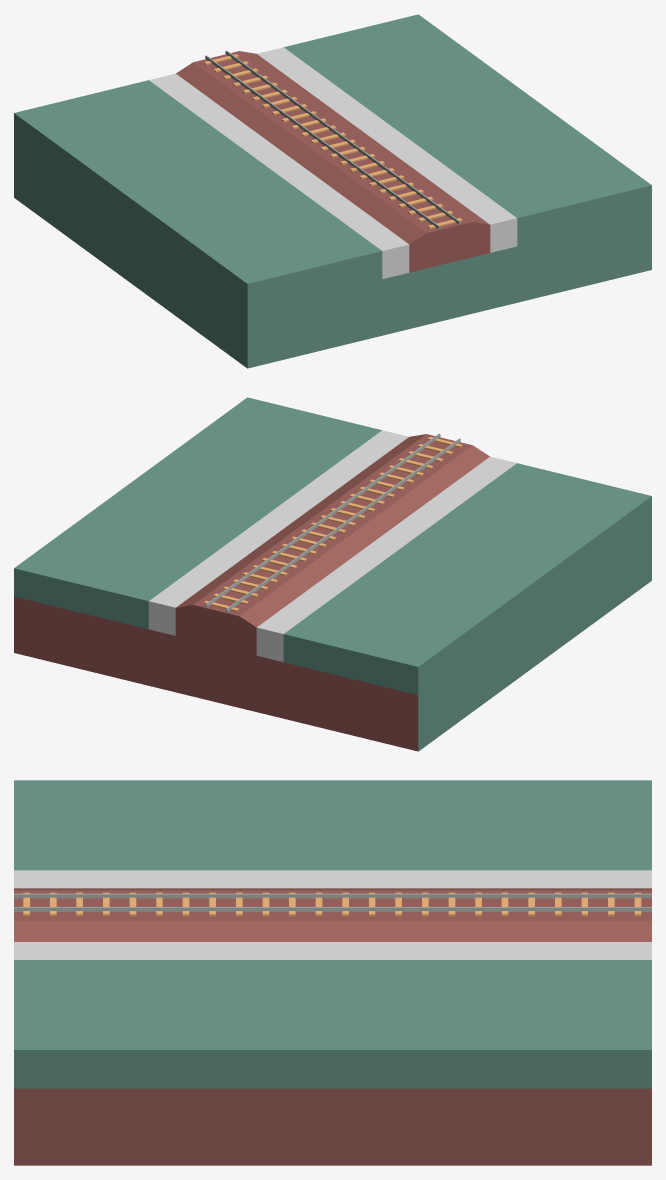
File: tile-rail-straight.fbx
3 renders of one model, top to bottom at view 1: azimuth 30°, elevation 25°; view 2: azimuth 150°, elevation 25°; view 3: azimuth 270°, elevation 25°, orthographic. The views are drawn at different scales.
Visible parts, largest first — view 1: tile-rail-straight; view 2: tile-rail-straight; view 3: tile-rail-straight.
Boxes of the visible parts, x1,y1,x2,y2 form: tile-rail-straight: [14, 14, 651, 368]; tile-rail-straight: [14, 397, 651, 751]; tile-rail-straight: [14, 780, 651, 1165].
Size of the model in its own units: 3000 by 675 by 3000.
